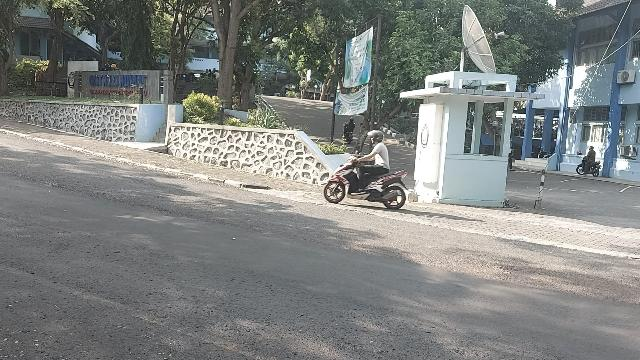motor: (325, 152, 409, 211)
